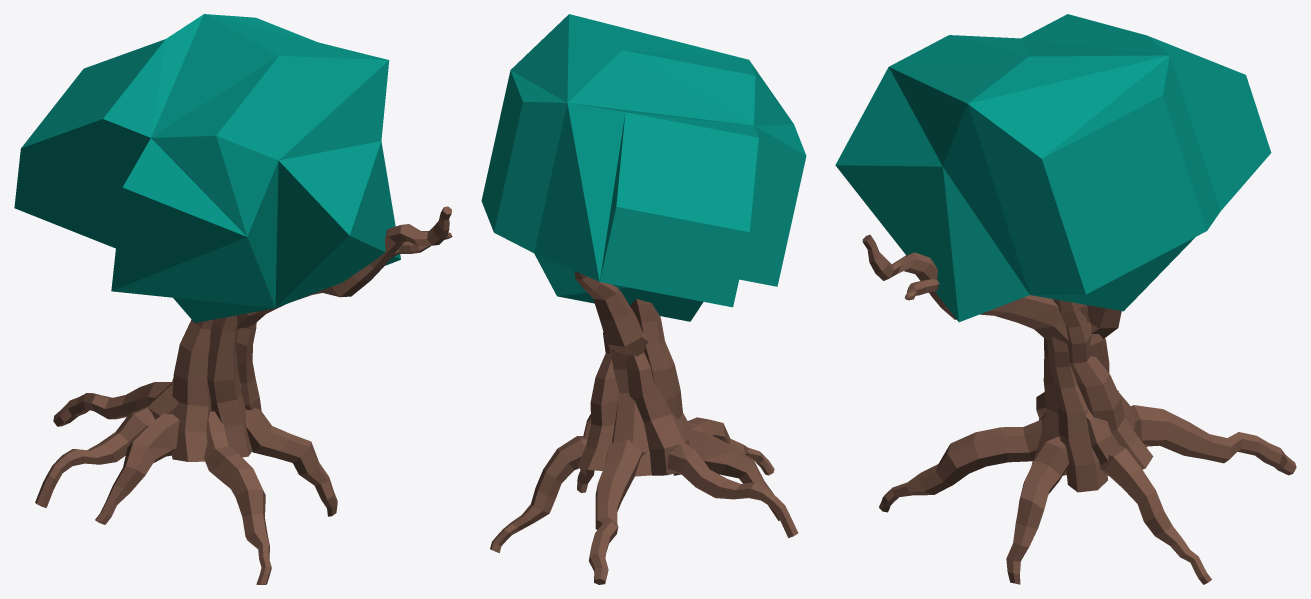
Rendered from tree_1.glb.
The picture shows the model from 3 angles, left to right: view 1: azimuth 30°, elevation 25°; view 2: azimuth 150°, elevation 25°; view 3: azimuth 270°, elevation 25°; orthographic projection. The views are drawn at different scales.
Parts seen in each view (by area): view 1: group1715968370; view 2: group1715968370; view 3: group1715968370.
Part boxes in pixels (bbox=[...]): group1715968370: bbox=[14, 14, 452, 584]; group1715968370: bbox=[481, 14, 806, 584]; group1715968370: bbox=[835, 14, 1296, 584].
Bounding box in the file's own units: 0.3111 × 0.422 × 0.3497.
